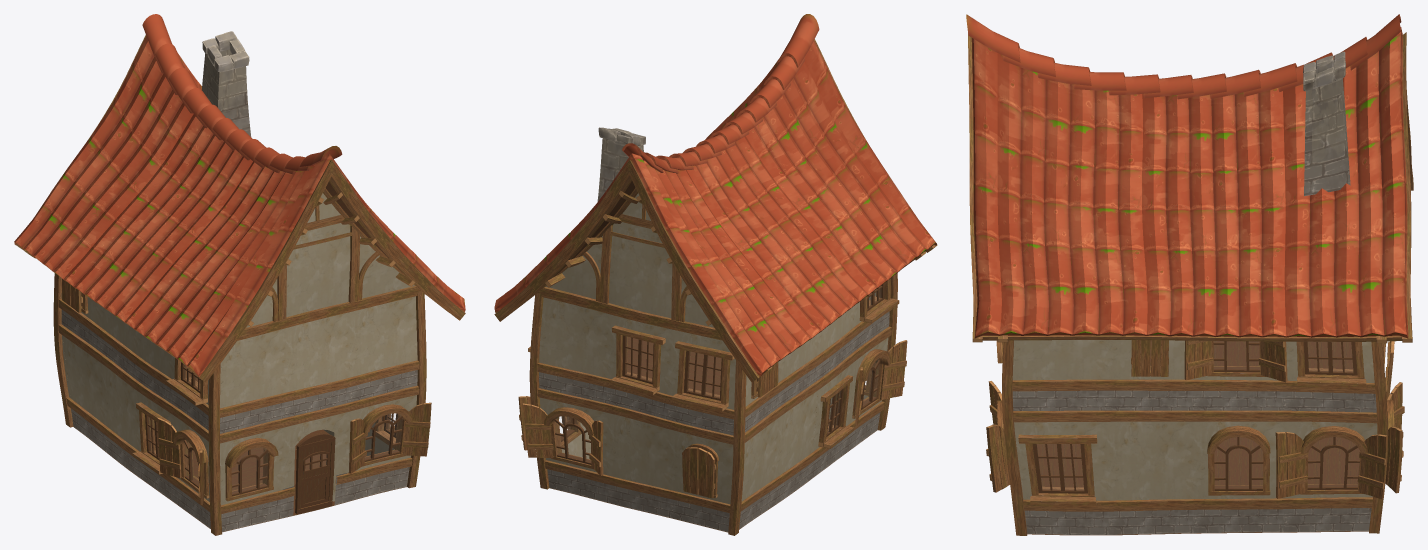
3 views of the same model, side by side, from view 1: azimuth 30°, elevation 25°; view 2: azimuth 150°, elevation 25°; view 3: azimuth 270°, elevation 25° (orthographic). The views are drawn at different scales.
Parts seen in each view (by area): view 1: H04; view 2: H04; view 3: H04.
Boxes of the visible parts, x1,y1,x2,y2 form: H04: [14, 14, 465, 535]; H04: [494, 14, 937, 535]; H04: [966, 14, 1413, 535].
Size of the model in its own units: 8.8 by 11.5 by 10.1.
Materials: 33 (29 with a texture image).
